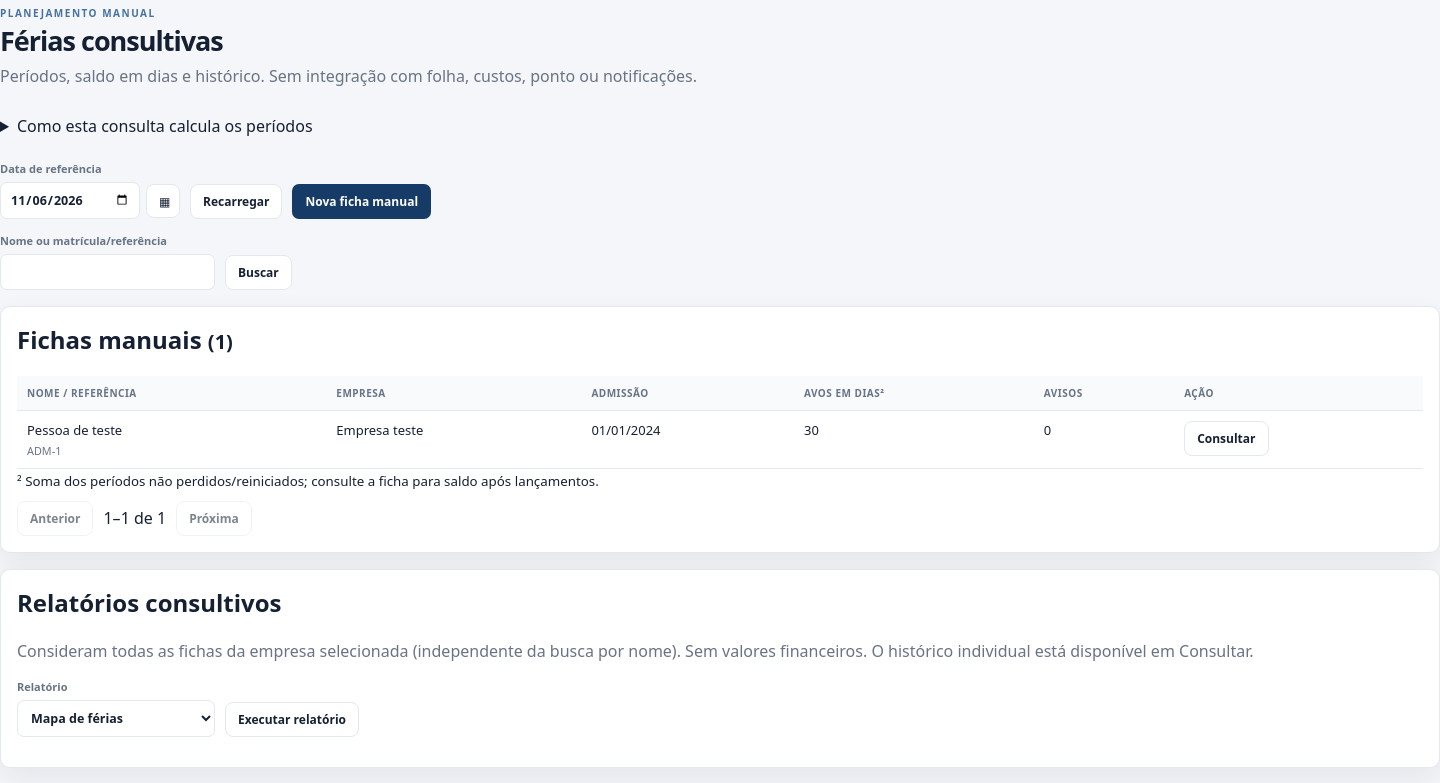
Test case: Férias consultivas › mantém edição e informa conflito de versão ao receber HTTP 409
The width and height of the screenshot is (1440, 783).
Click the button "Consultar": (1226, 438) [1184,421,1268,456]
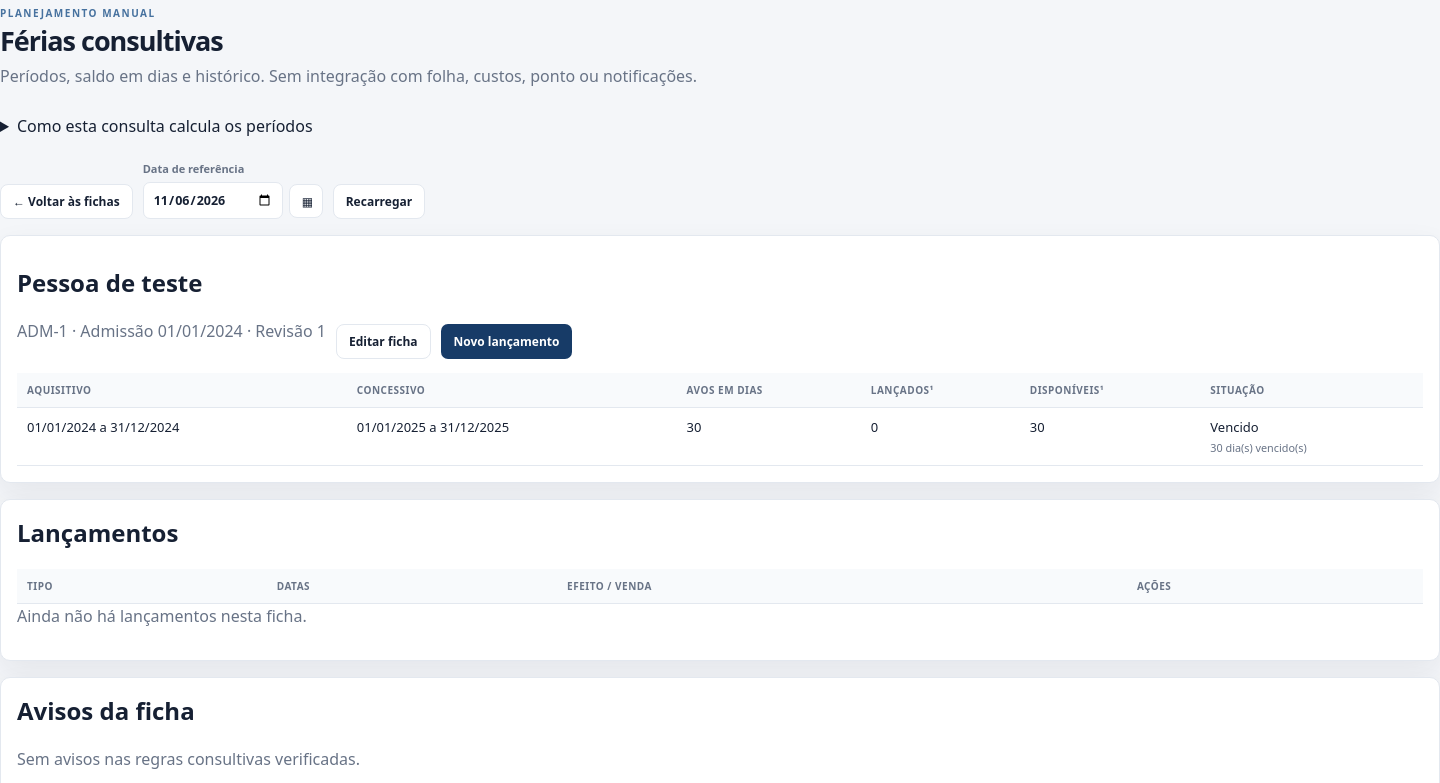
Click the button "Novo lançamento": (506, 341) [440,324,572,359]
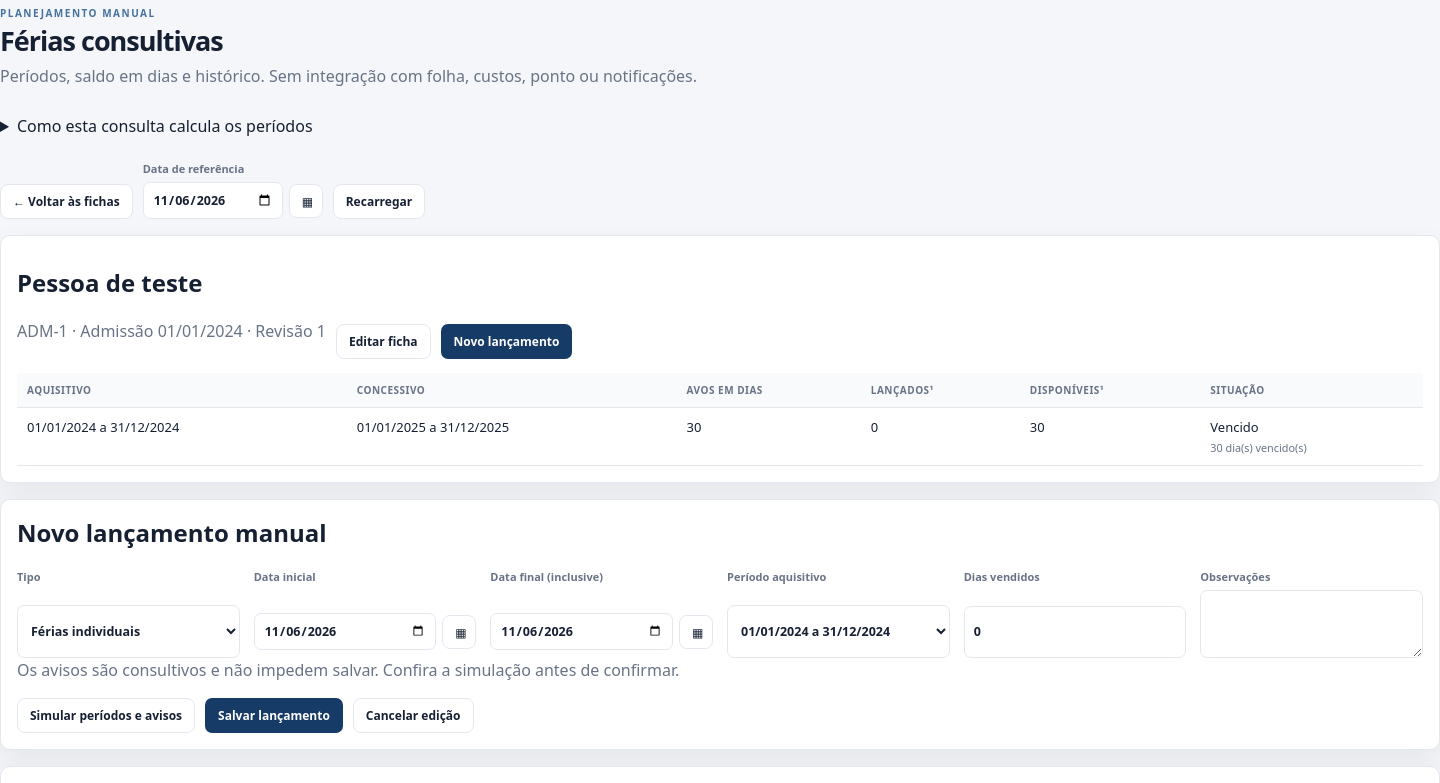
Submit the form, box [17,569,1423,733]
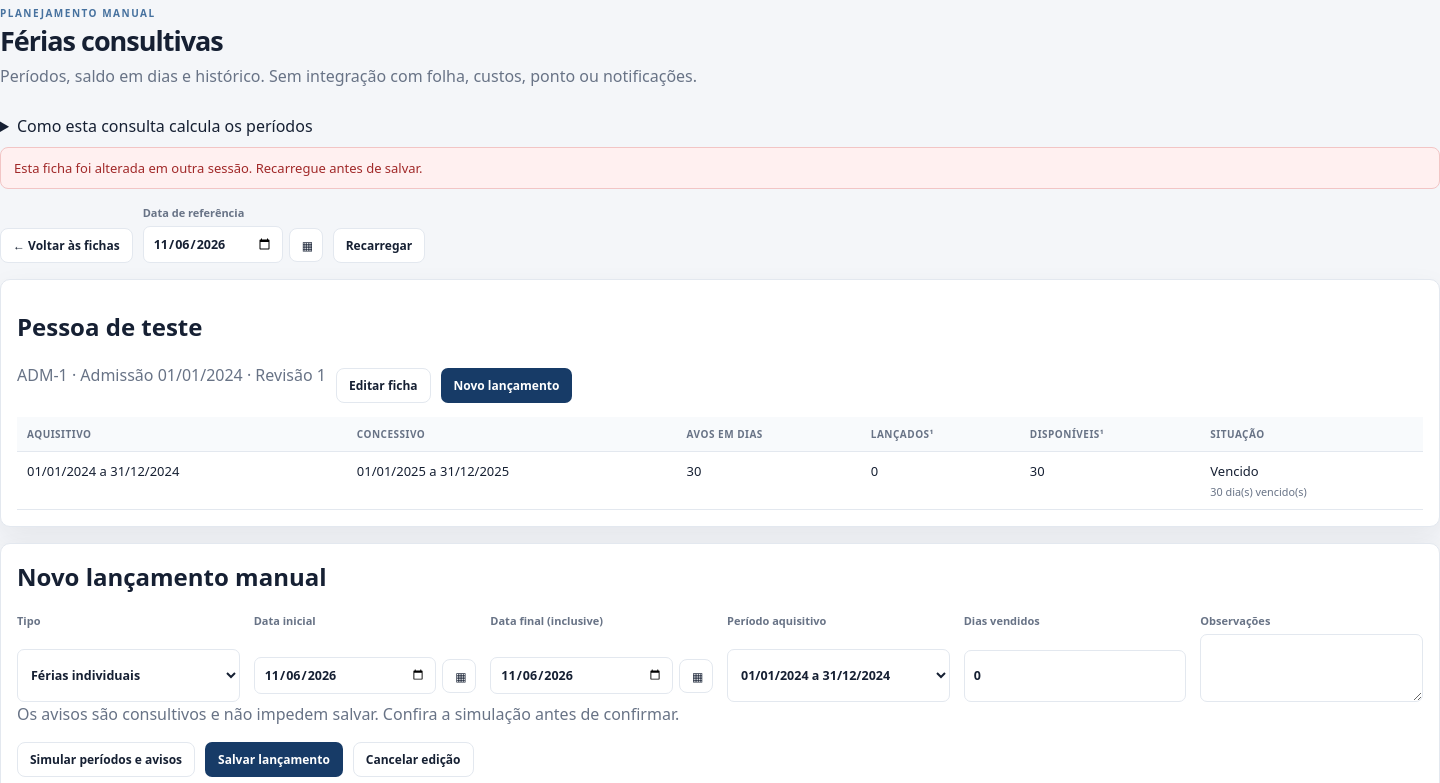
Expected: the button "Salvar lançamento" is enabled, [205,742,343,777]
Expected: the text "alterada em outra sessão" is shown, [14,159,422,177]
